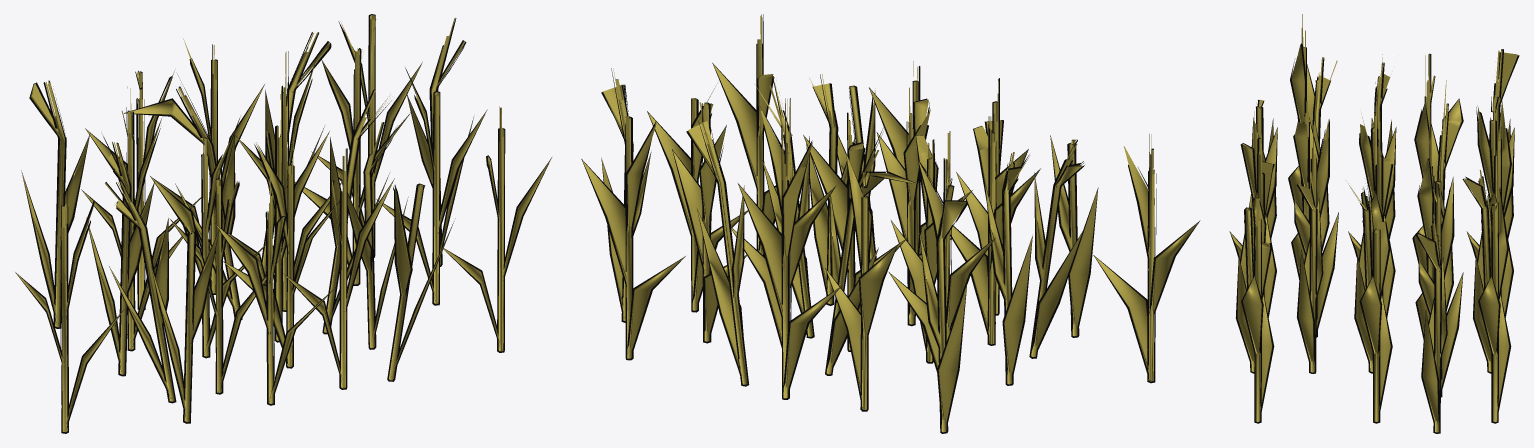
The model's file is wheatcut_ol.glb.
3 views of the same model, side by side, from view 1: azimuth 30°, elevation 25°; view 2: azimuth 150°, elevation 25°; view 3: azimuth 270°, elevation 25° (orthographic). The views are drawn at different scales.
Visible parts, largest first — view 1: wheatCut; view 2: wheatCut; view 3: wheatCut.
Part boxes in pixels (x1=…): wheatCut: x1=15, y1=14, x2=551, y2=433; wheatCut: x1=581, y1=14, x2=1200, y2=433; wheatCut: x1=1229, y1=14, x2=1519, y2=433.
Bounding box in the file's own units: 15.36 × 7.5 × 8.01.
